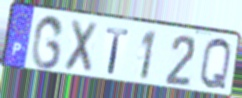1: (136, 29, 158, 81)
2: (164, 33, 199, 89)
G: (29, 14, 65, 72)
Q: (198, 37, 233, 93)
T: (105, 26, 131, 76)
X: (62, 18, 101, 77)
